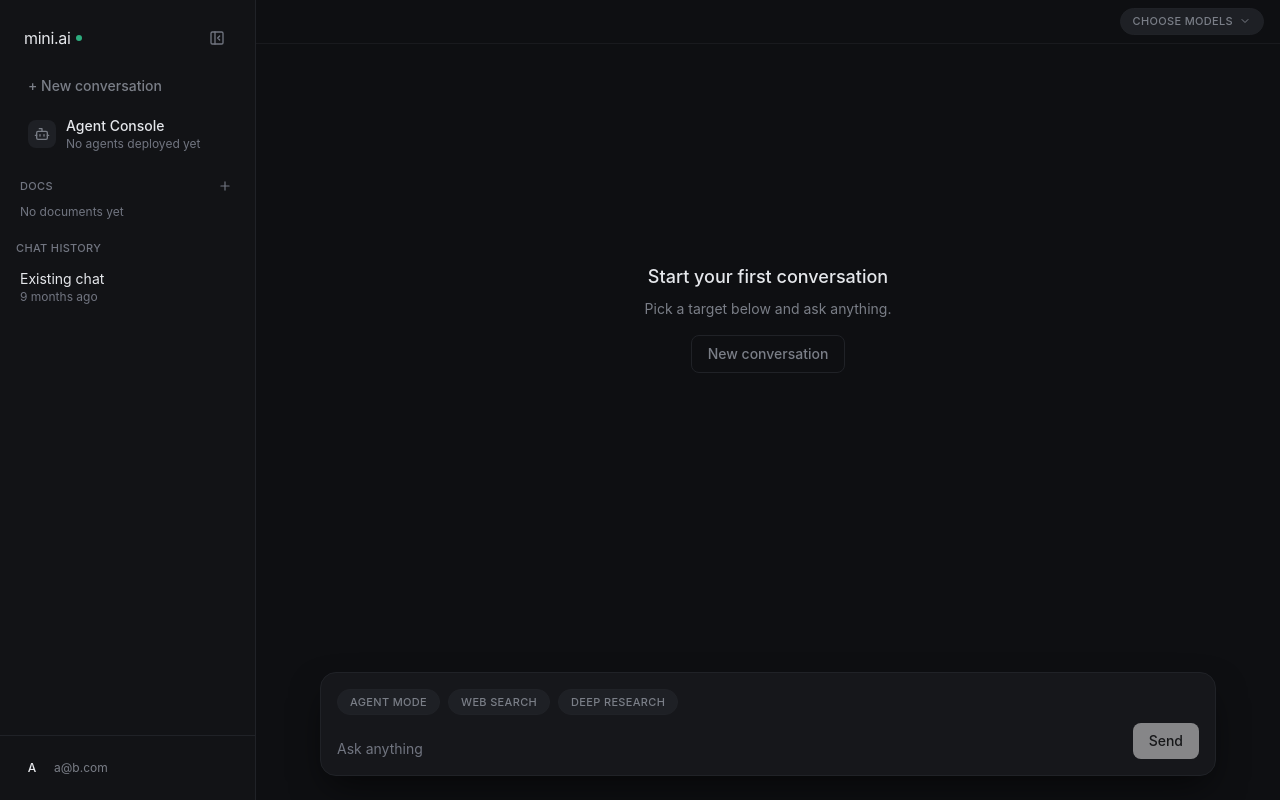
Scenario: Home composer send state › disables send with no text or no targets, and re-disables once streaming starts
This screenshot has width=1280, height=800.
Click the text "Existing chat" at (62, 278), box [20, 270, 104, 286]
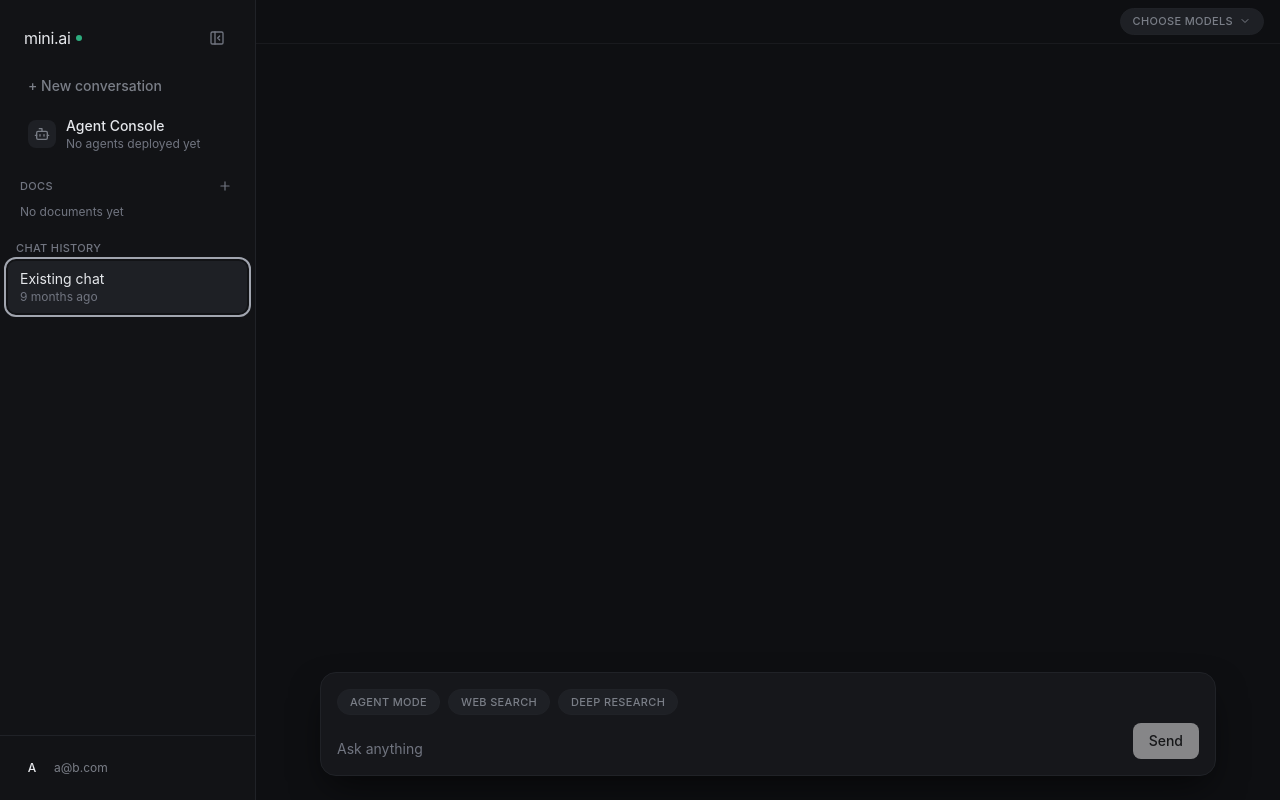
Expected: the button "Send" is disabled, [1133, 723, 1199, 759]
Type "hello" into the text box with placeholder "Ask anything" at (731, 749), box [337, 739, 1125, 759]
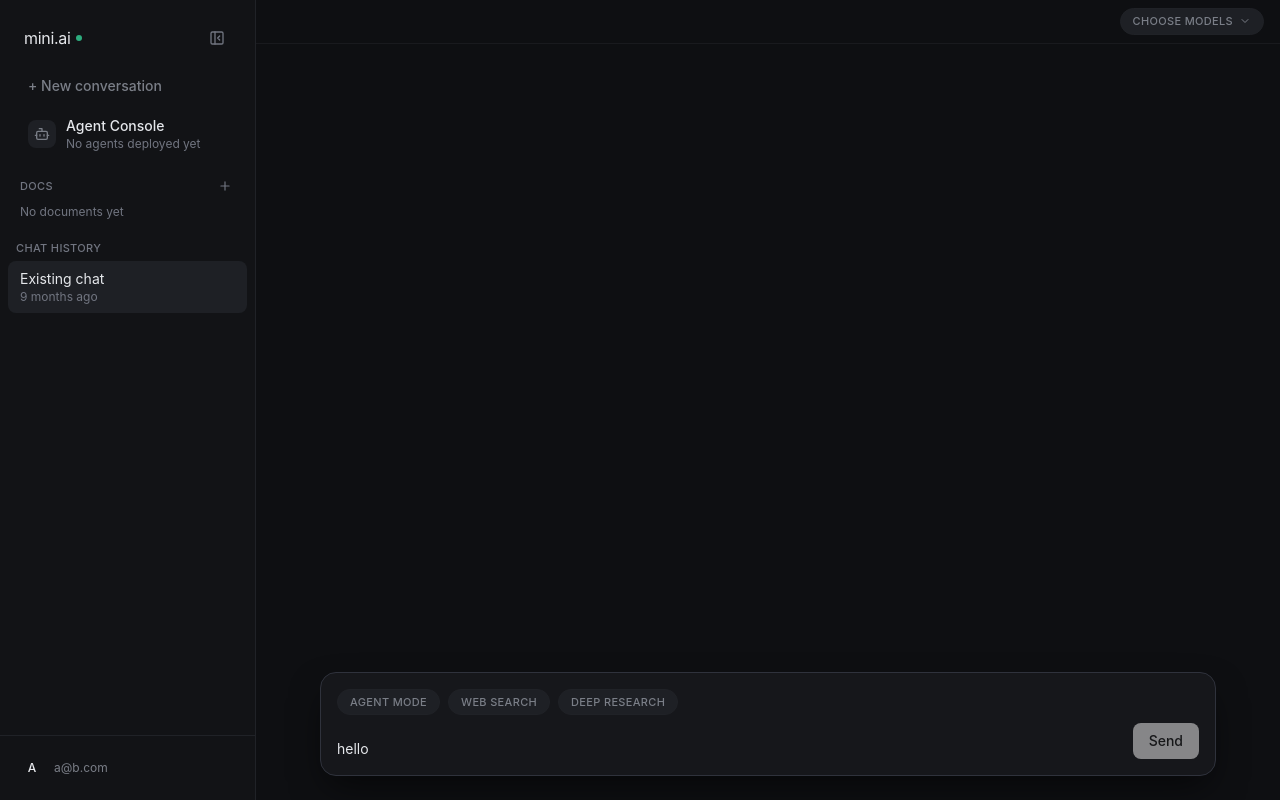
Expected: the button "Send" is disabled, [1133, 723, 1199, 759]
Click the button with test id "target-picker-trigger" at (1192, 21), box [1120, 8, 1264, 34]
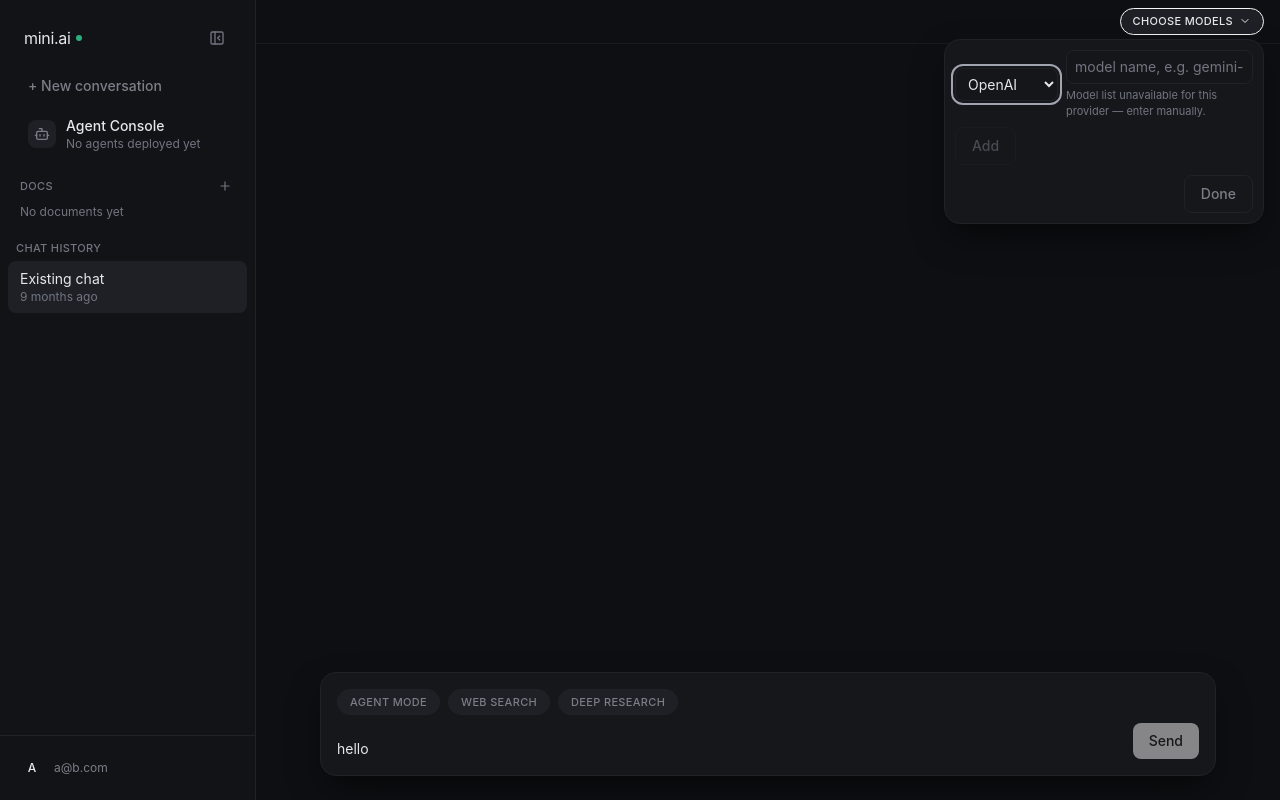
Now the field labelled "model name, e.g. gemini-2.5-flash" is shown
Type "gpt-5" into the field labelled "model name, e.g. gemini-2.5-flash" at (1160, 67), box [1066, 50, 1253, 84]
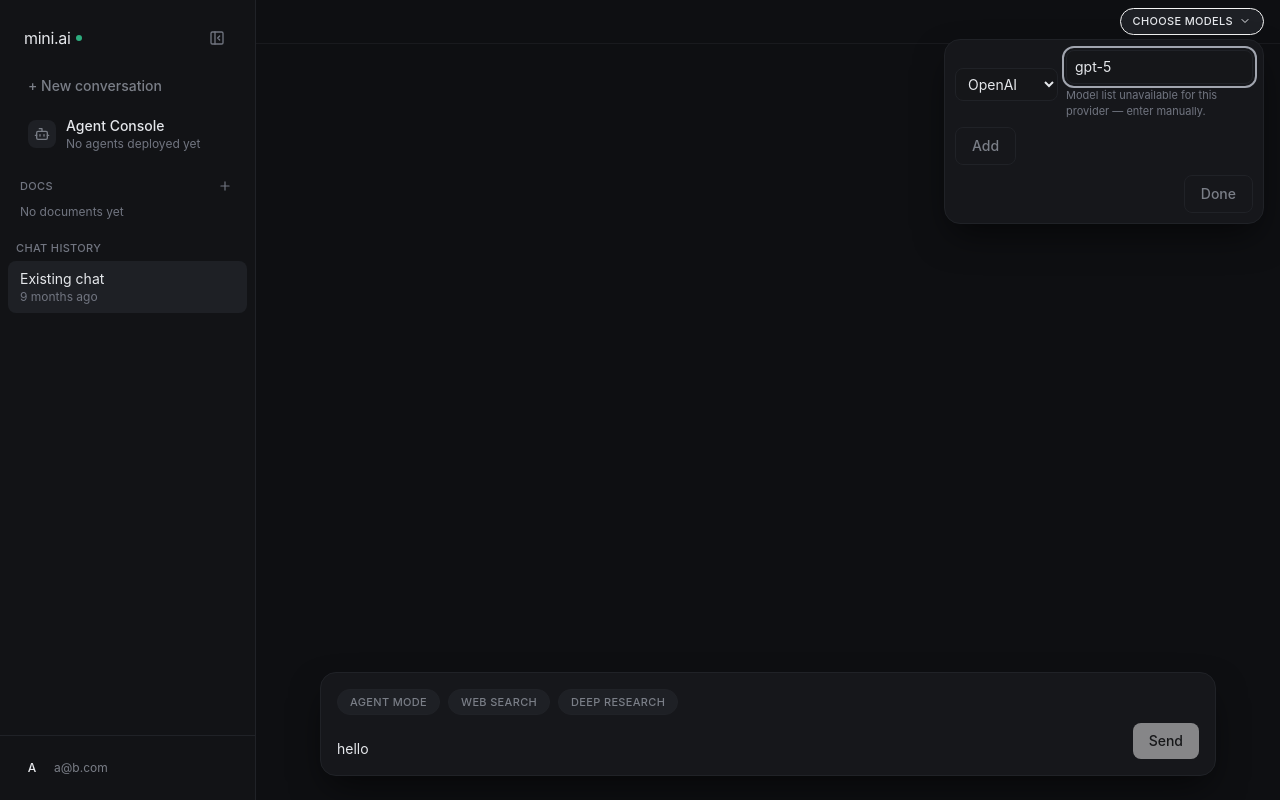
Click the button "Add" at (986, 146), box [955, 127, 1016, 165]
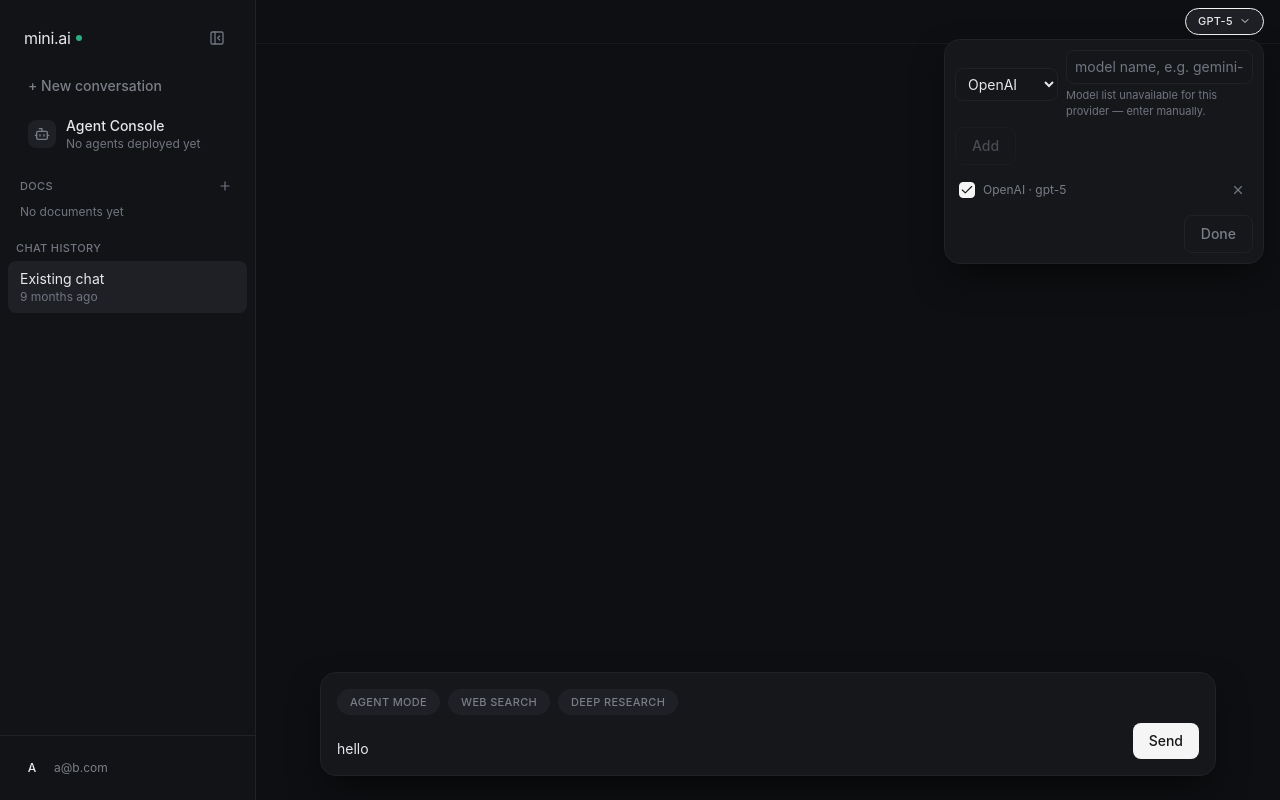
Now the button "Send" is enabled
Click the button "Send" at (1166, 741), box [1133, 723, 1199, 759]
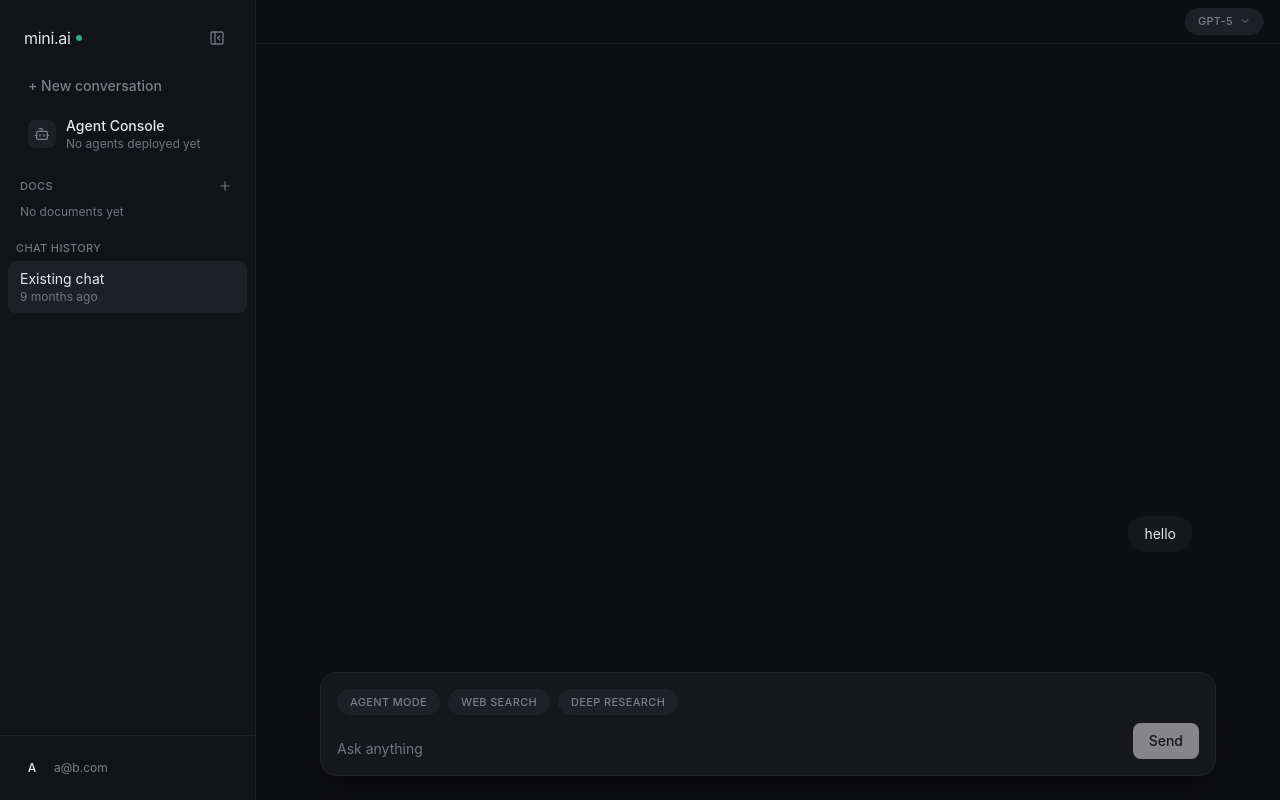
Now the button "Send" is disabled, box [1133, 723, 1199, 759]
